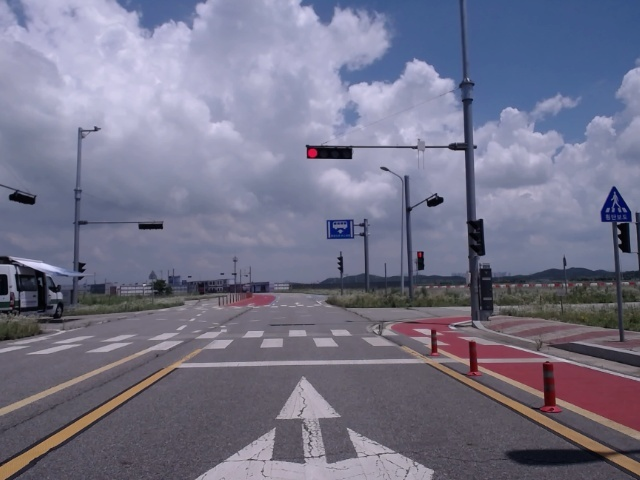red_4: (307, 147, 352, 159)
